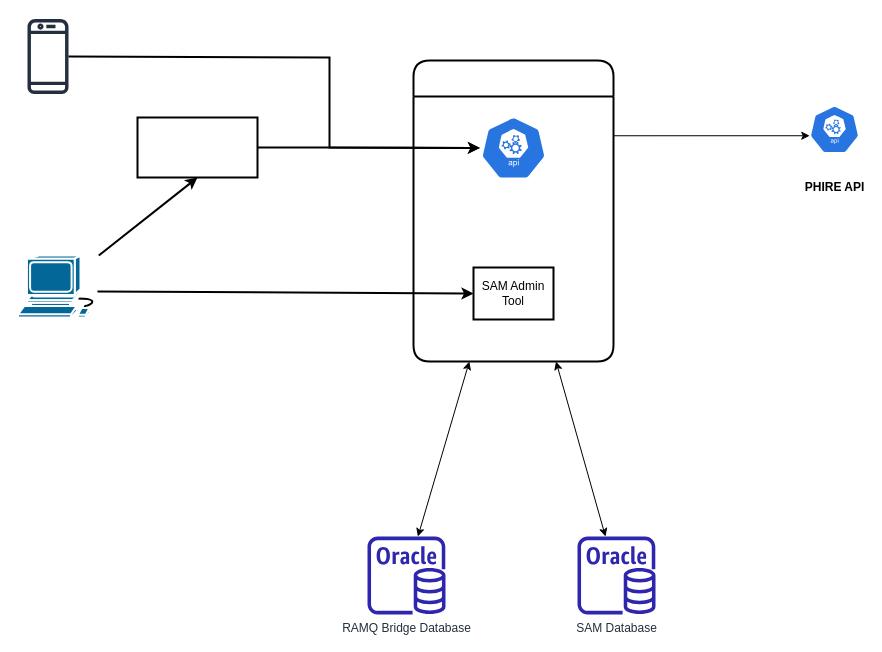
Image size: 882x652. Some labels were removed from this diagram. Each missing label, with the centre of its shape:
SAM Backend Container: (513,210)
SAM Web App: (197,147)
